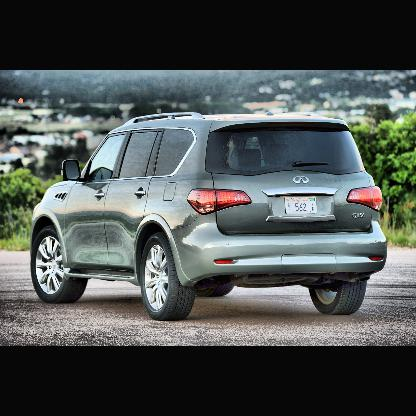Infiniti QX56 SUV 2011: (30, 110, 391, 321)
